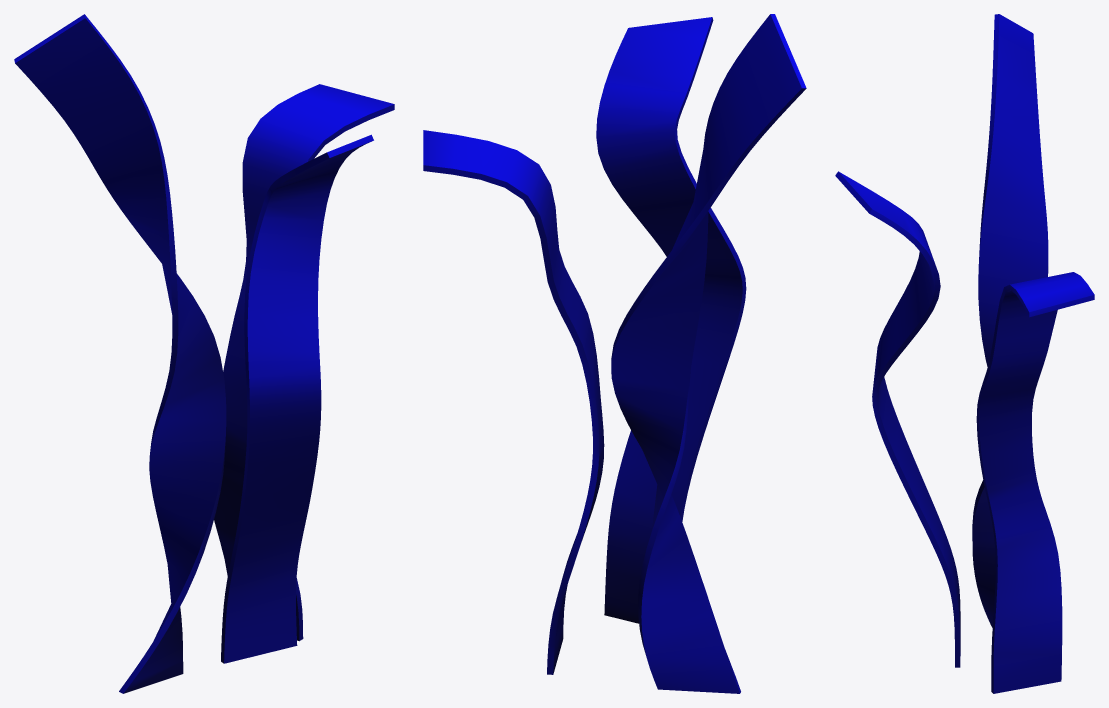
Rendered from SteelRibbons.glb.
3 views of the same model, side by side, from view 1: azimuth 30°, elevation 25°; view 2: azimuth 150°, elevation 25°; view 3: azimuth 270°, elevation 25° (orthographic). The views are drawn at different scales.
Parts seen in each view (by area): view 1: SteelRibbons; view 2: SteelRibbons; view 3: SteelRibbons.
Part boxes in pixels (x1,y1,x2,y2): SteelRibbons: (14,14,394,693); SteelRibbons: (423,14,806,693); SteelRibbons: (835,14,1094,693).
Bounding box in the file's own units: 34.3 × 59.46 × 23.28.
